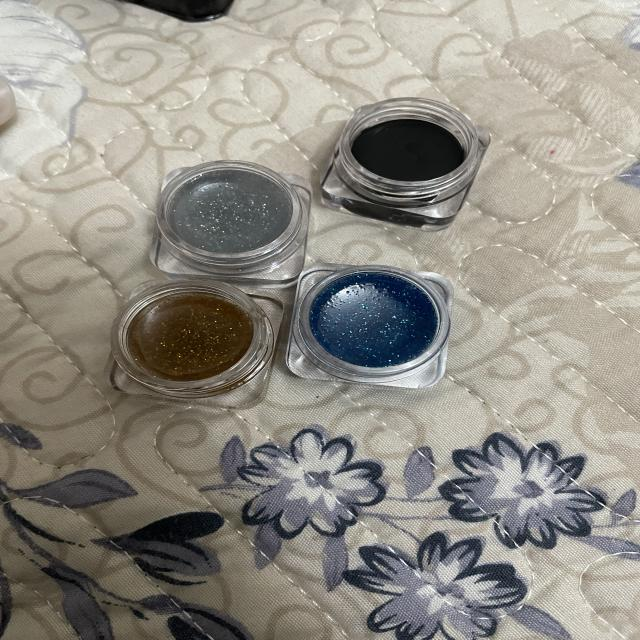eye shade: (318, 94, 504, 240), (100, 276, 286, 422), (286, 259, 460, 405), (142, 153, 314, 286)
